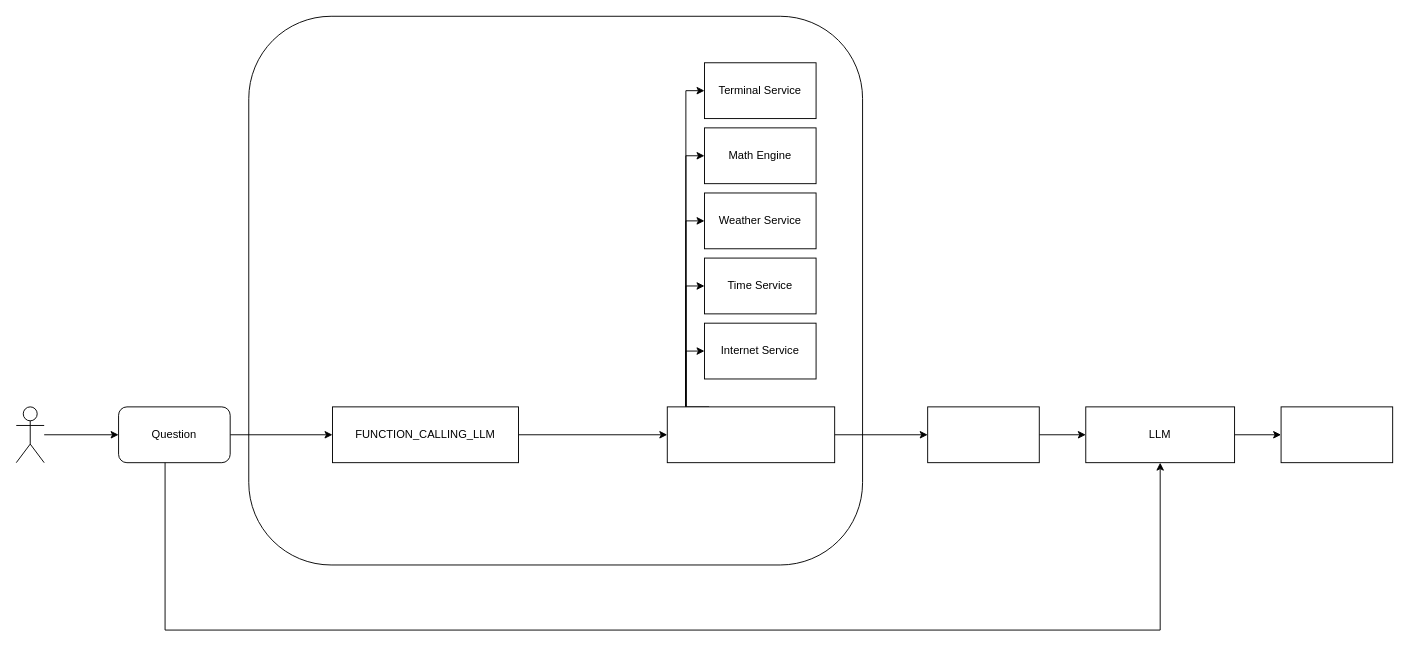
The diagram is 1409 pixels wide and 654 high, and some of its shapes have lost their labels. Each missing label, with the centre of its shape:
Answer: (1336,434)
Get Context: (983,434)
Service Provider: (750,434)
User: (29,434)
